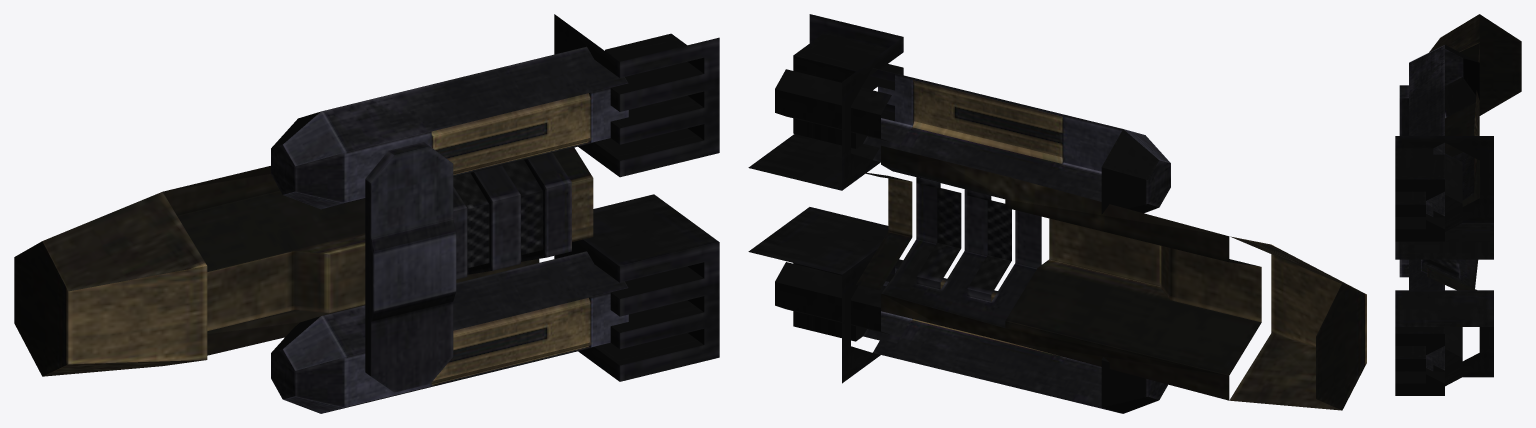
The model's file is v_nail_0.obj.
3 renders of one model, left to right at view 1: azimuth 30°, elevation 25°; view 2: azimuth 150°, elevation 25°; view 3: azimuth 270°, elevation 25°, orthographic. The views are drawn at different scales.
Size of the model in its own units: 25.8 by 12.7 by 6.03.
Materials: 1 (1 with a texture image).
